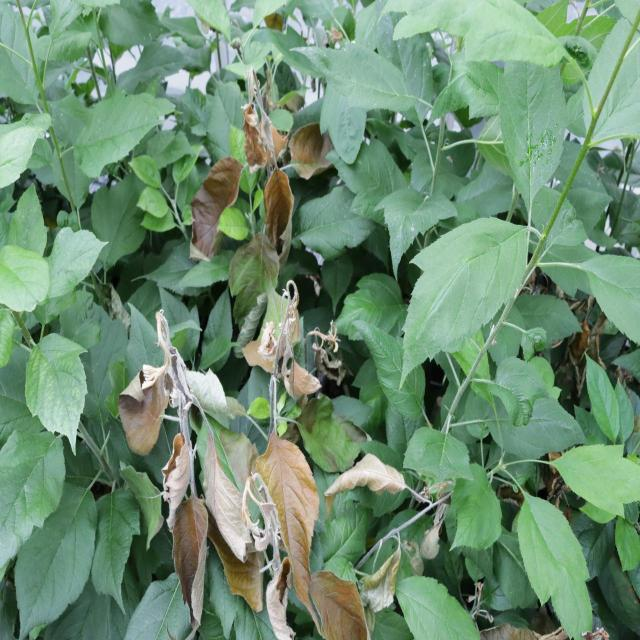-FireBlight-: (107, 273, 371, 640), (167, 74, 352, 319), (331, 453, 460, 597)
